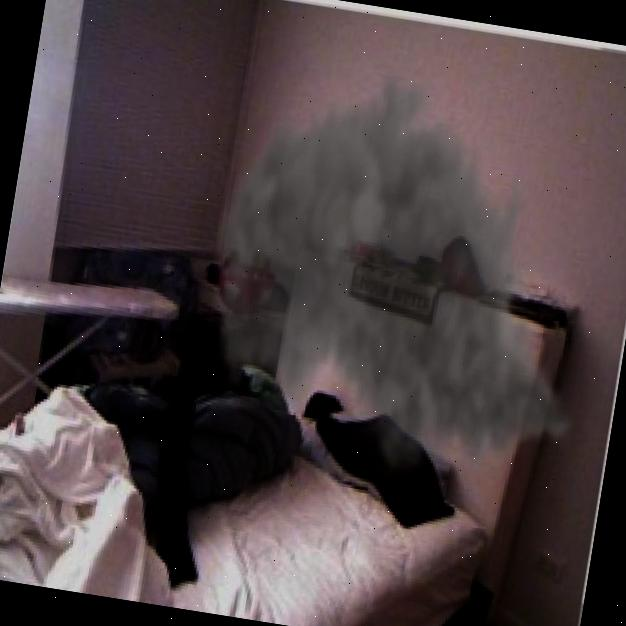smoke: (178, 35, 626, 514)
